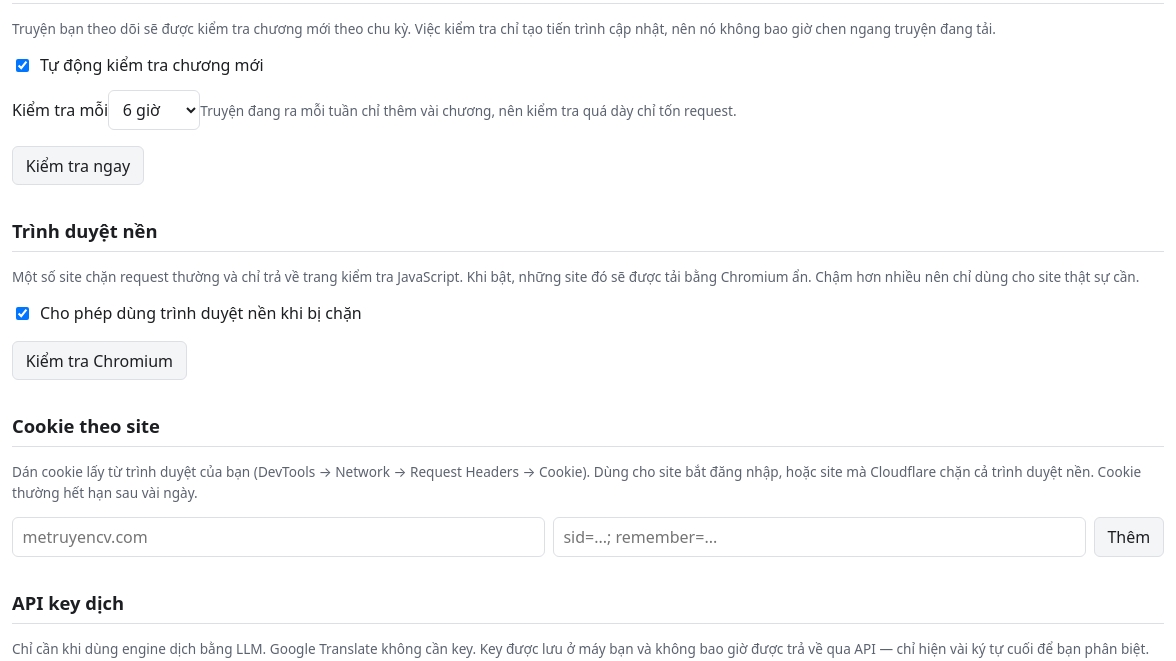
it: Settings › reports when Chromium is missing, with the fix
(page scrolled)
Click the button "Kiểm tra Chromium" at (99, 361), box 12,341 -> 187,380
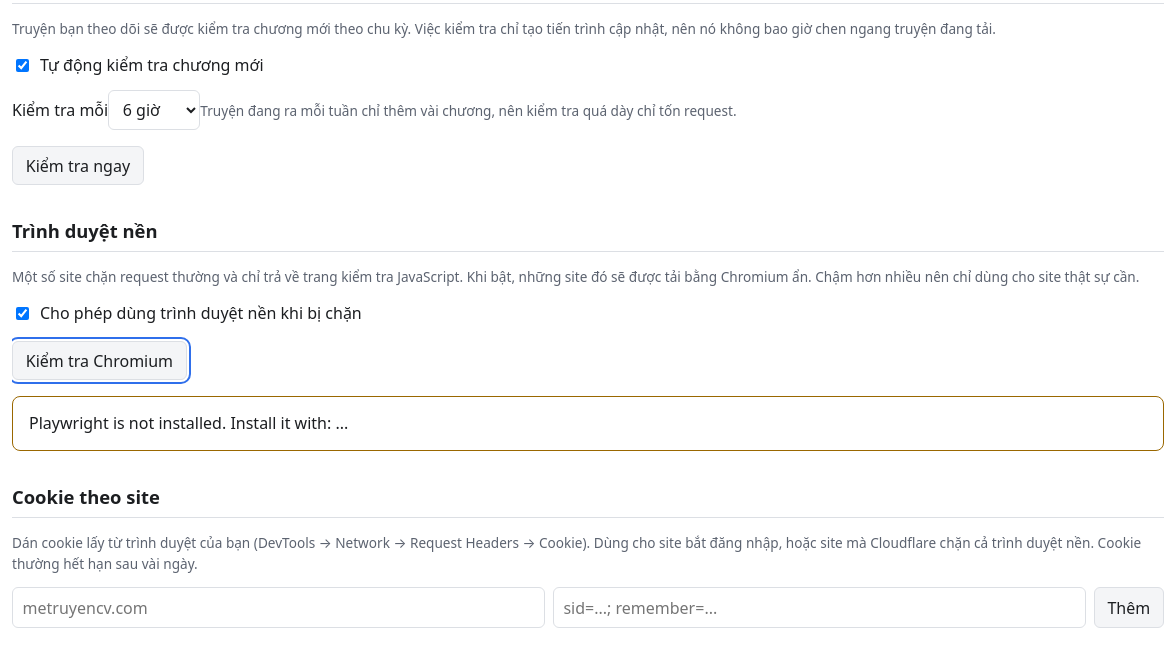
Expected: the text "Playwright is not installed. Install it with: ..." is shown, 12,396 -> 1164,451
